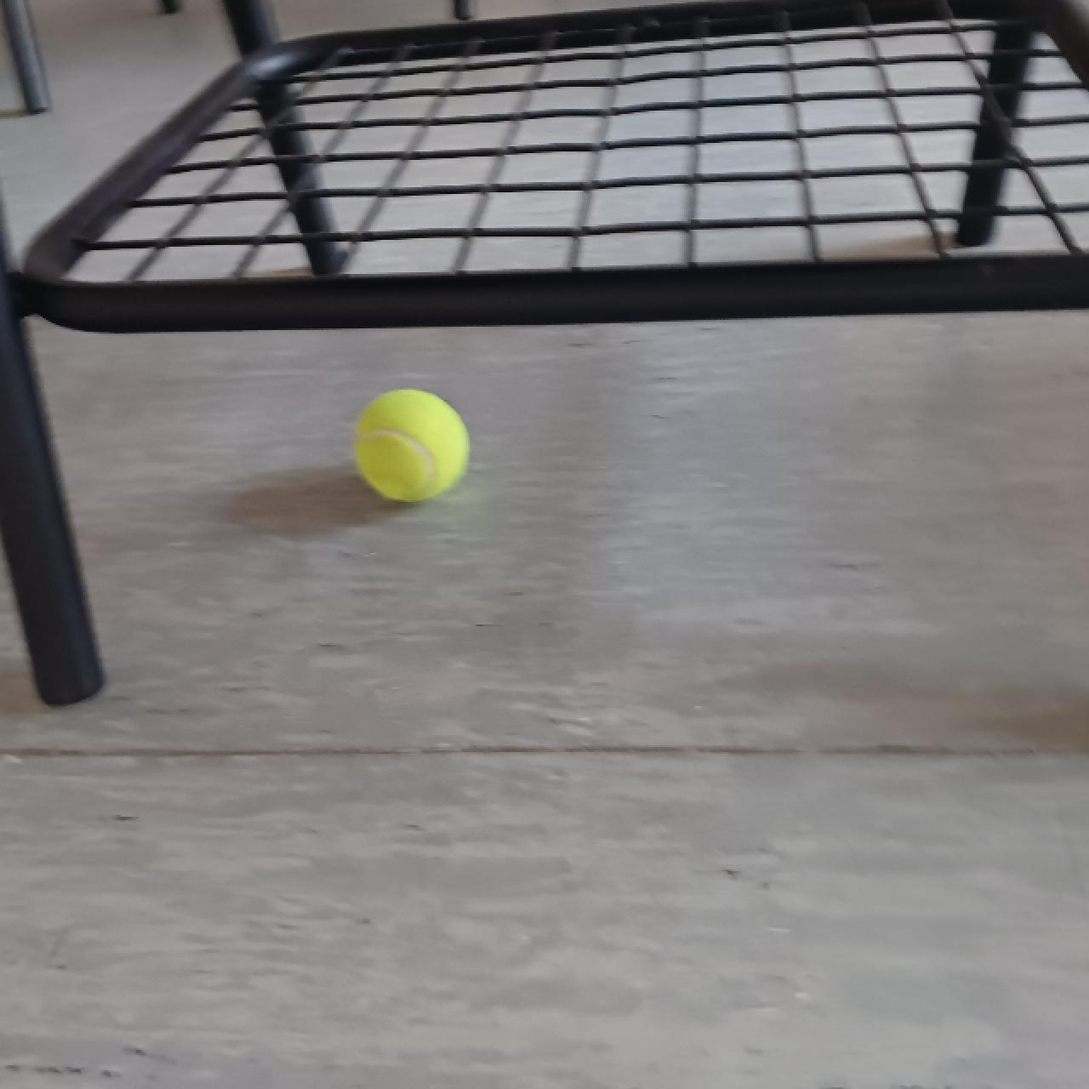tennis-ball: (354, 386, 475, 503)
